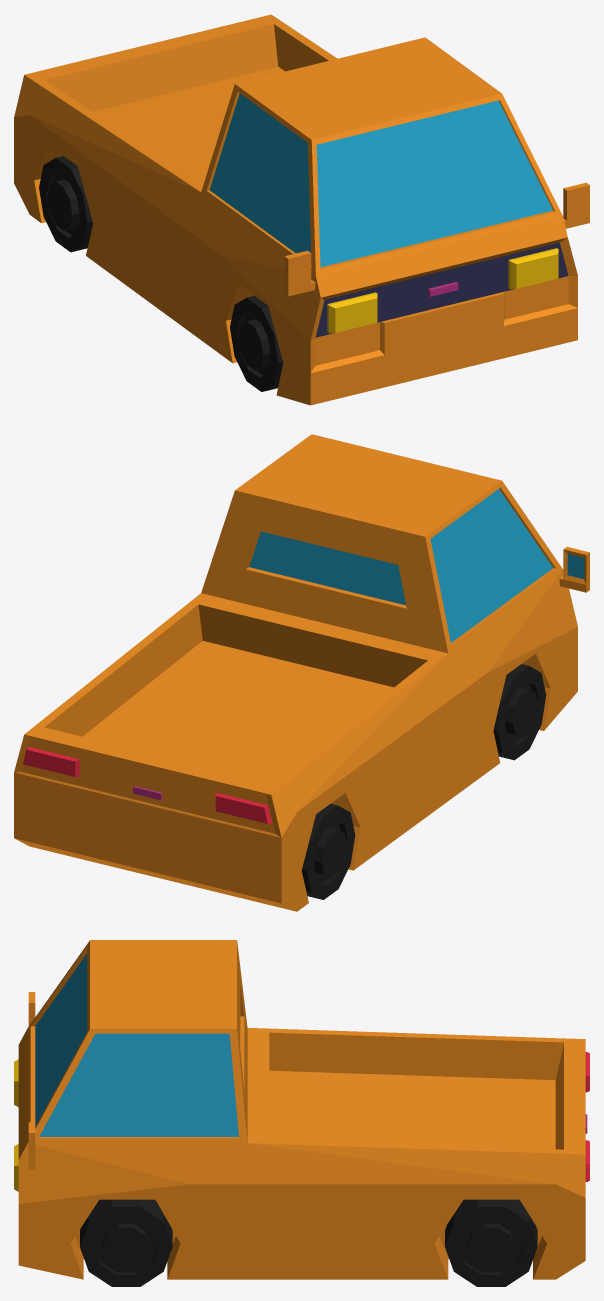
File: pickup.glb
3 renders of one model, top to bottom at view 1: azimuth 30°, elevation 25°; view 2: azimuth 150°, elevation 25°; view 3: azimuth 270°, elevation 25°, orthographic. The views are drawn at different scales.
Parts seen in each view (by area): view 1: pickup; view 2: pickup; view 3: pickup.
Part boxes in pixels (box(x1,y1,x2,y2)): pickup: box(14, 14, 589, 405); pickup: box(14, 434, 589, 911); pickup: box(14, 940, 589, 1286).
Bounding box in the file's own units: 4.35 × 3.46 × 7.51.
Materials: 1 (1 with a texture image).
